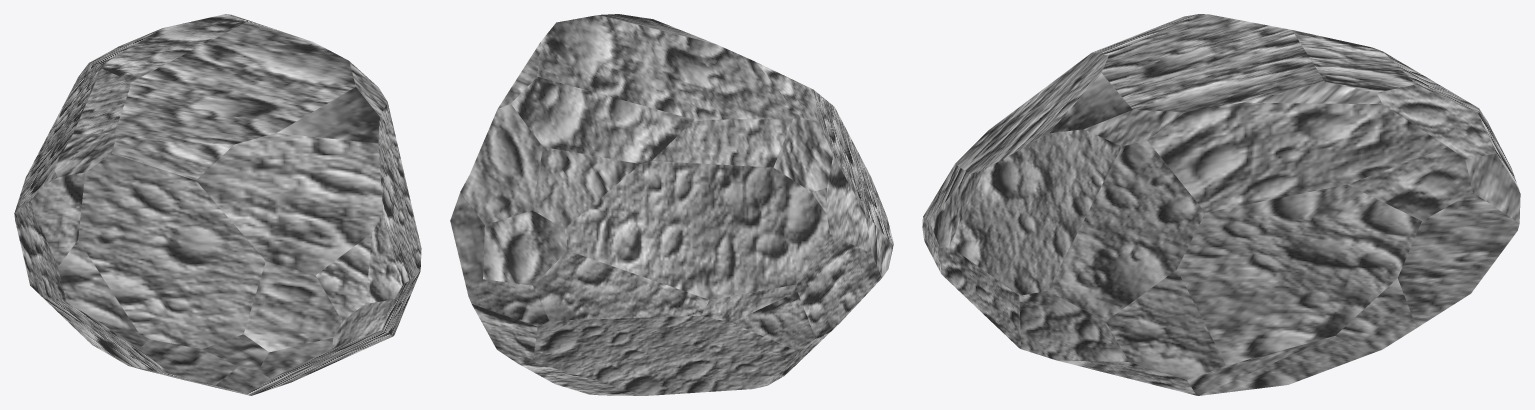
Rendered from asteroid5.glb.
3 renders of one model, left to right at view 1: azimuth 30°, elevation 25°; view 2: azimuth 150°, elevation 25°; view 3: azimuth 270°, elevation 25°, orthographic. The views are drawn at different scales.
Parts seen in each view (by area): view 1: Icosphere.002; view 2: Icosphere.002; view 3: Icosphere.002.
Part boxes in pixels (box(x1,y1,x2,y2)): Icosphere.002: box(14, 14, 421, 395); Icosphere.002: box(450, 14, 893, 395); Icosphere.002: box(922, 14, 1520, 395).
Size of the model in its own units: 2.4 by 1.93 by 3.42.
1 material, 1 textured.
